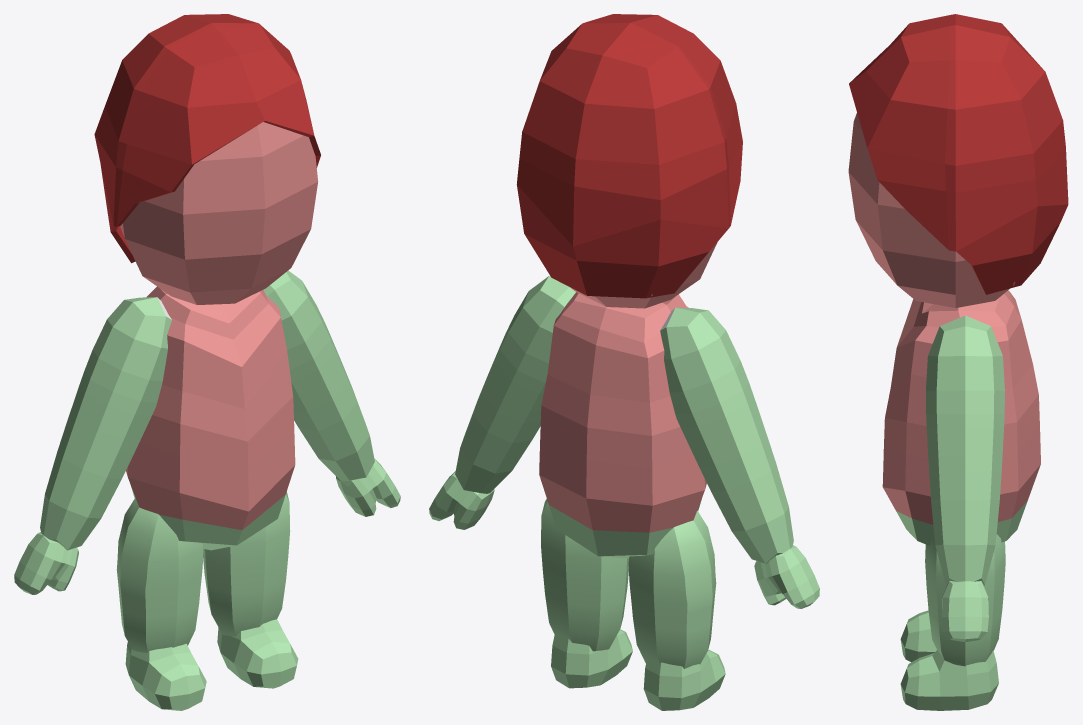
File: Stripper nude.fbx
The picture shows the model from 3 angles, left to right: view 1: azimuth 30°, elevation 25°; view 2: azimuth 150°, elevation 25°; view 3: azimuth 270°, elevation 25°; orthographic projection.
Parts seen in each view (by area): view 1: Cherry nude; view 2: Cherry nude; view 3: Cherry nude.
Boxes of the visible parts, x1=… form: Cherry nude: x1=14, y1=14, x2=400, y2=710; Cherry nude: x1=429, y1=14, x2=819, y2=710; Cherry nude: x1=848, y1=14, x2=1068, y2=710.
Bounding box in the file's own units: 176 × 297 × 89.37.
